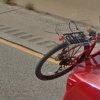Bicycle: (32, 19, 97, 80)
